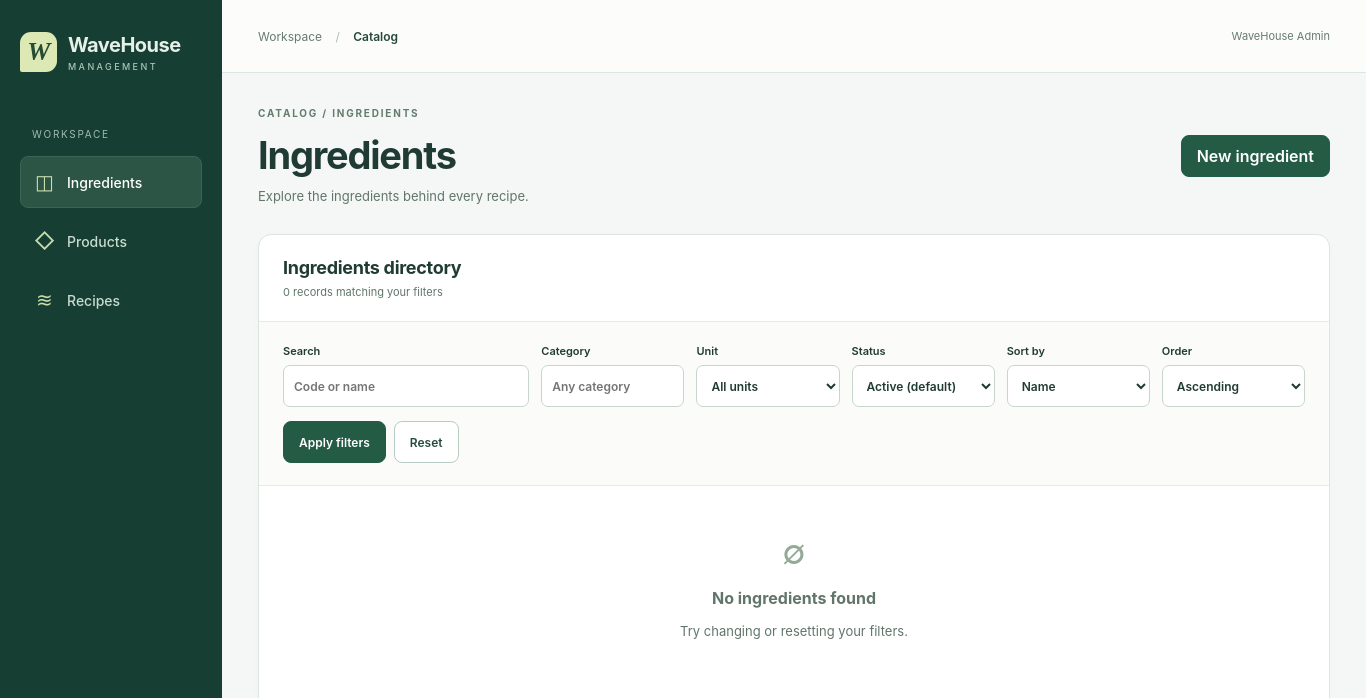
creation payloads and successful lifecycle › offers Catalog creation without activation, editing or deletion controls
This screenshot has width=1366, height=698.
Expected: the button "New ingredient" is shown, left=1181, top=134, right=1330, bottom=176
Click the button "◇ Products" at (111, 241), box left=20, top=215, right=202, bottom=267
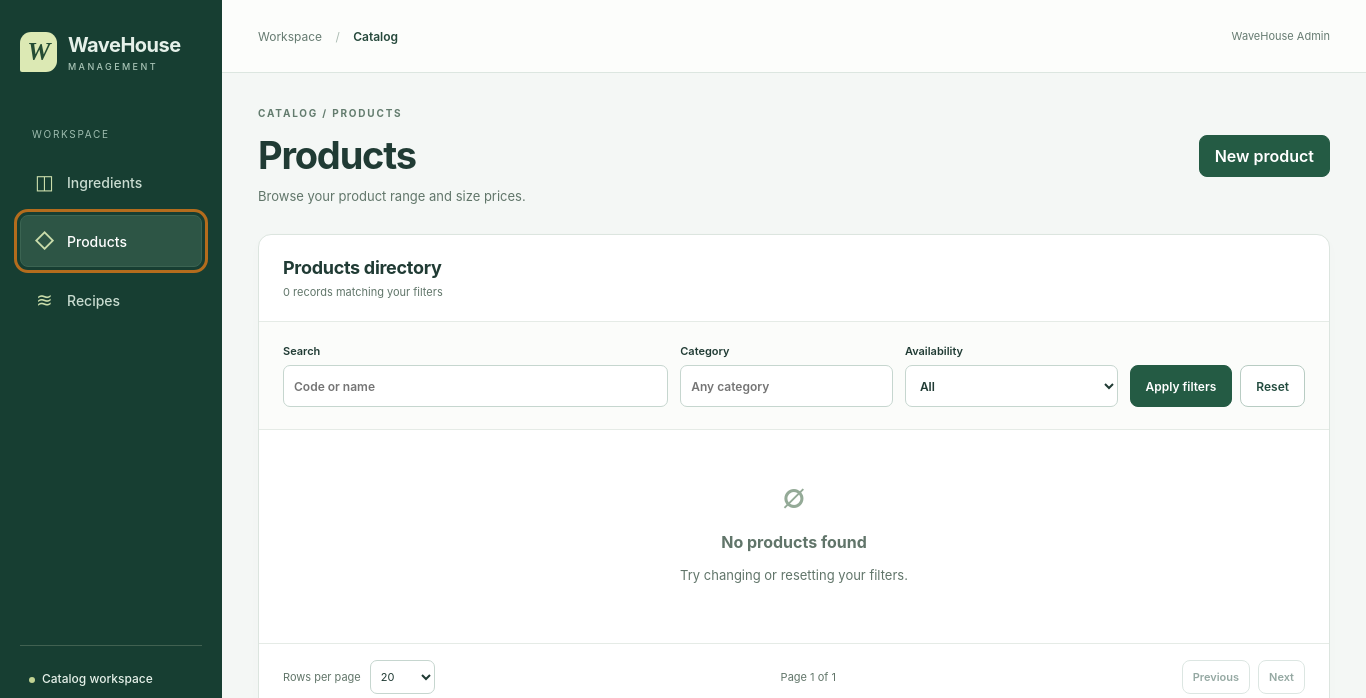
Expected: the button "New product" is shown, left=1199, top=134, right=1330, bottom=176
Click the button "≋ Recipes" at (111, 300), box left=20, top=274, right=202, bottom=326
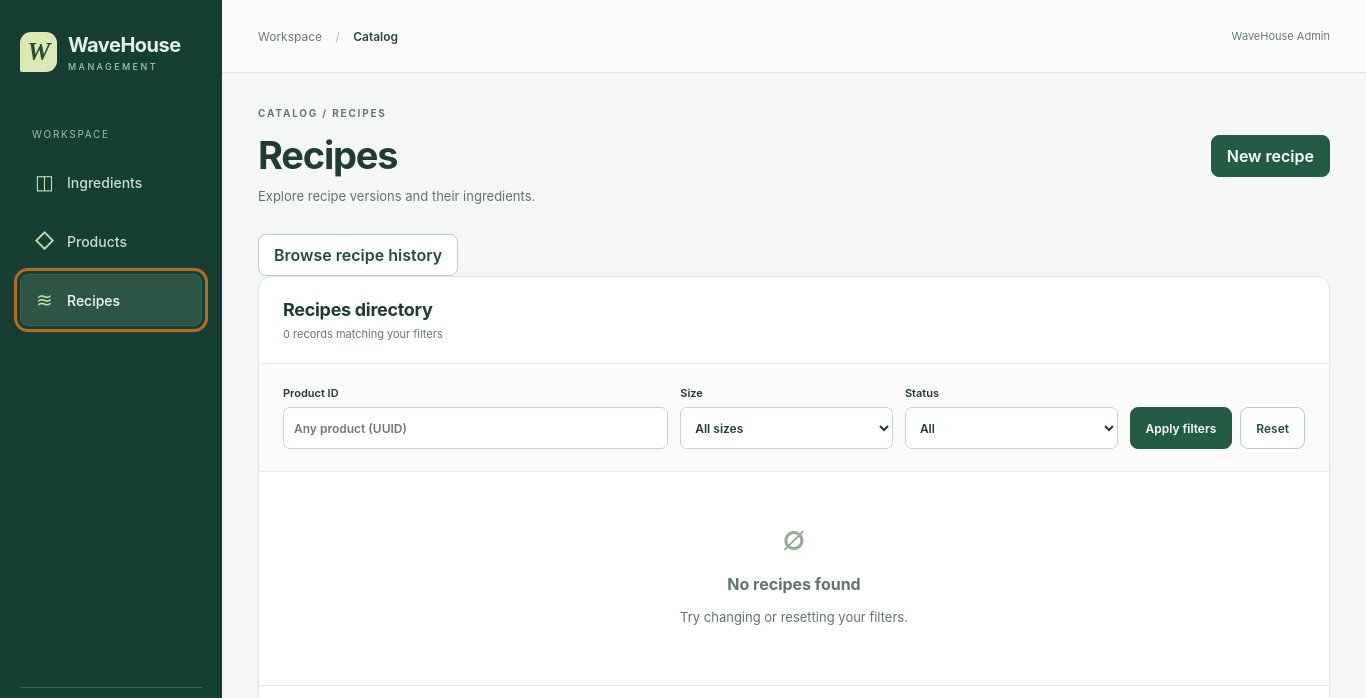
Expected: the button "New recipe" is shown, left=1211, top=134, right=1330, bottom=176
